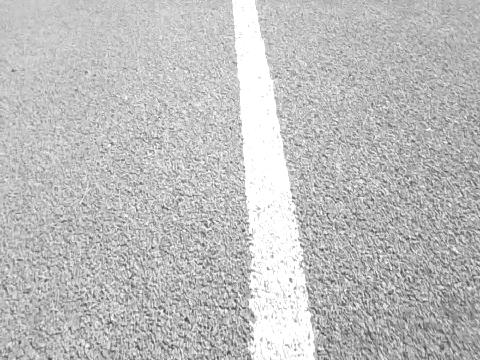Lines: (230, 0, 318, 360)
